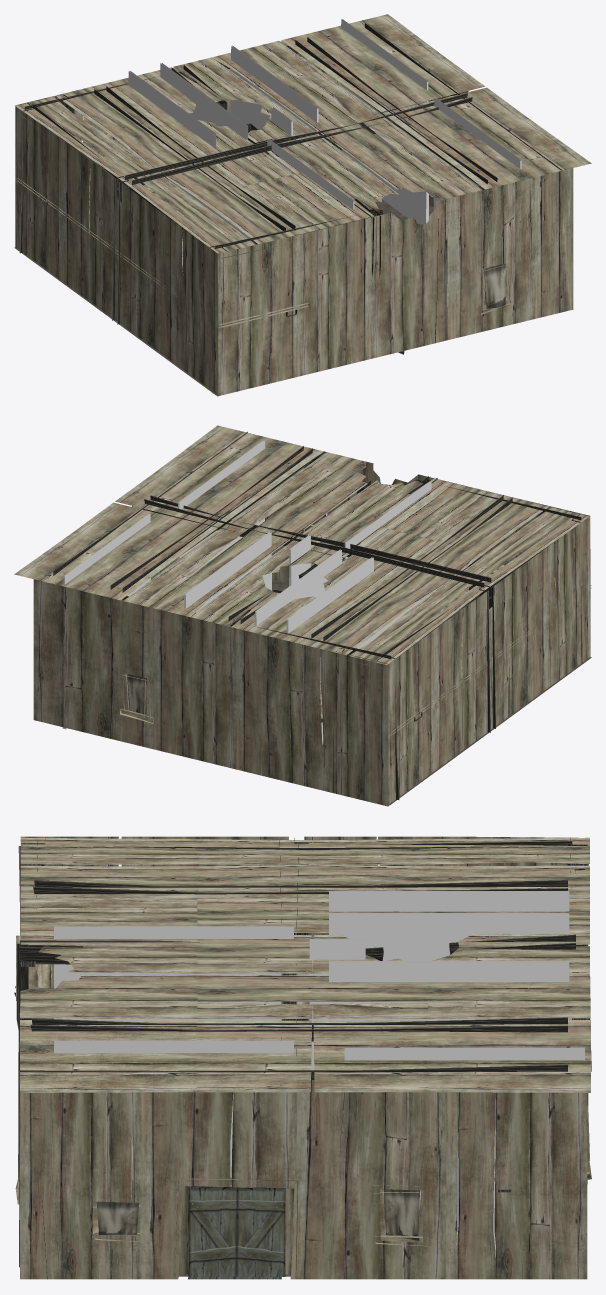
Rendered from pir_m_int_shn_store_destroyed.fbx.
The picture shows the model from 3 angles, top to bottom: view 1: azimuth 30°, elevation 25°; view 2: azimuth 150°, elevation 25°; view 3: azimuth 270°, elevation 25°; orthographic projection. The views are drawn at different scales.
Visible parts, largest first — view 1: ceiling1, wall_4, wall_1, cealing_beams_2, ray_6, ray_2, ray_1, ray_7, cealing_beams_3, cealing_beams_5, new_floor, ray_5 (+8 smaller); view 2: ceiling1, wall_3, wall_1, cealing_beams_2, ray_2, ray_1, ray_7, wall_4, cealing_beams_3, cealing_beams_5, ray_5, ray_4 (+8 smaller); view 3: ceiling1, wall_2, ray_1, ray_2, ray_7, ray_4, cealing_beams_3, door_left.001, door_right.001, ray_6, cealing_beams_5, ray_5 (+10 smaller).
Part boxes in pixels (x1,y1,x2,y2): ceiling1: (15,14,591,253); wall_4: (218,168,573,395); wall_1: (15,106,218,396); cealing_beams_2: (125,92,472,185); ray_6: (340,19,428,229); ray_2: (230,45,318,134); ray_1: (160,63,248,238); ray_7: (128,70,216,214); cealing_beams_3: (295,37,497,185); cealing_beams_5: (94,86,295,232); new_floor: (14,199,485,395); ray_5: (433,97,521,264); ceiling1: (14,425,588,664); wall_3: (33,579,388,806); wall_1: (388,516,590,805); cealing_beams_2: (144,495,491,587); ray_2: (184,532,271,612); ray_1: (254,549,342,625); ray_7: (286,557,374,744); wall_4: (265,451,589,590); cealing_beams_3: (110,446,312,592); cealing_beams_5: (311,495,512,641); ray_5: (177,440,264,585); ray_4: (344,481,431,638); ceiling1: (20,837,590,1092); wall_2: (20,1080,587,1279); ray_1: (329,913,569,960); ray_2: (329,961,569,1020); ray_7: (329,891,569,911); ray_4: (54,926,293,1020); cealing_beams_3: (30,1017,567,1041); door_left.001: (236,1187,285,1276); door_right.001: (189,1186,237,1276); ray_6: (344,1047,584,1257); cealing_beams_5: (33,880,567,894); ray_5: (54,1040,293,1198).
Bounding box in the file's own units: 6730 × 2834 × 6381.
Materials: 6 (6 with a texture image).
